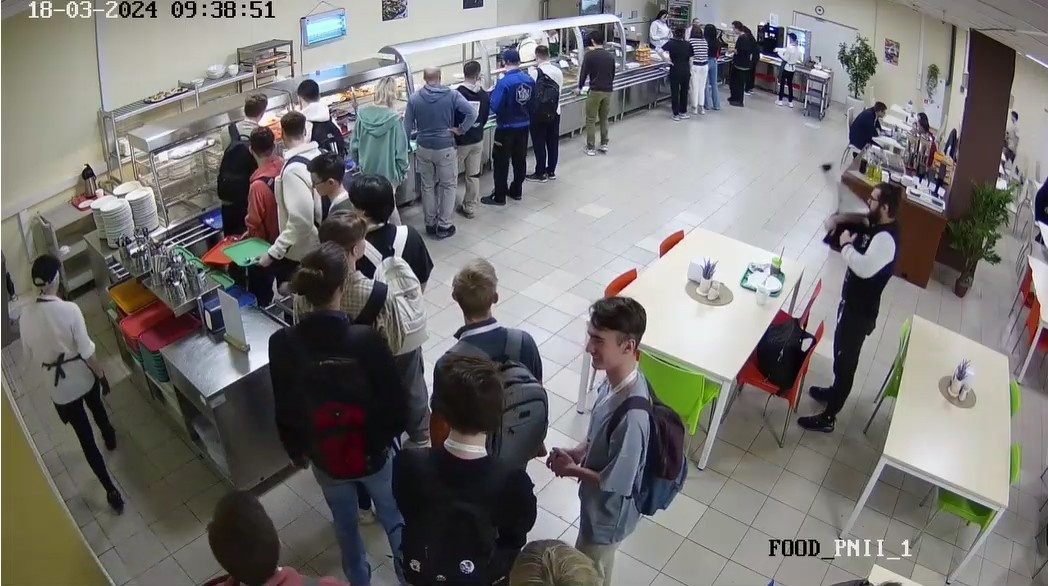Na_Kasse: (669, 27, 690, 115), (688, 22, 705, 118), (729, 32, 751, 102), (706, 27, 722, 112)
Ne_v_Ocheredi: (277, 251, 401, 567), (563, 292, 690, 584), (398, 353, 535, 585), (794, 177, 906, 423), (438, 252, 546, 422), (186, 483, 315, 586), (345, 177, 428, 305), (309, 211, 380, 306), (496, 523, 599, 586), (304, 161, 349, 223)
Personal: (2, 245, 197, 530), (777, 35, 800, 104), (651, 5, 668, 48), (519, 28, 542, 53), (545, 24, 566, 51)
Vybiraet: (405, 68, 460, 230), (273, 109, 324, 264), (490, 52, 530, 199), (352, 70, 403, 174), (234, 123, 276, 248), (453, 61, 485, 222), (221, 91, 262, 196), (529, 46, 561, 178), (582, 36, 614, 155), (294, 78, 334, 123)
Za_Stolom: (841, 102, 891, 166), (1030, 166, 1048, 236), (910, 110, 935, 149)
